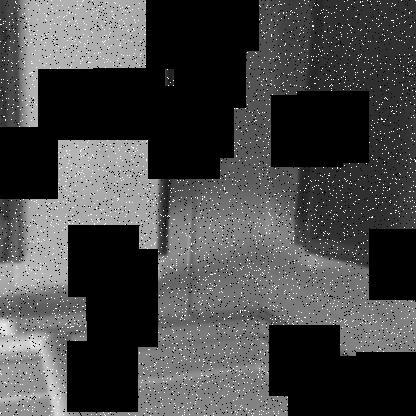Porte: (157, 1, 415, 285)
